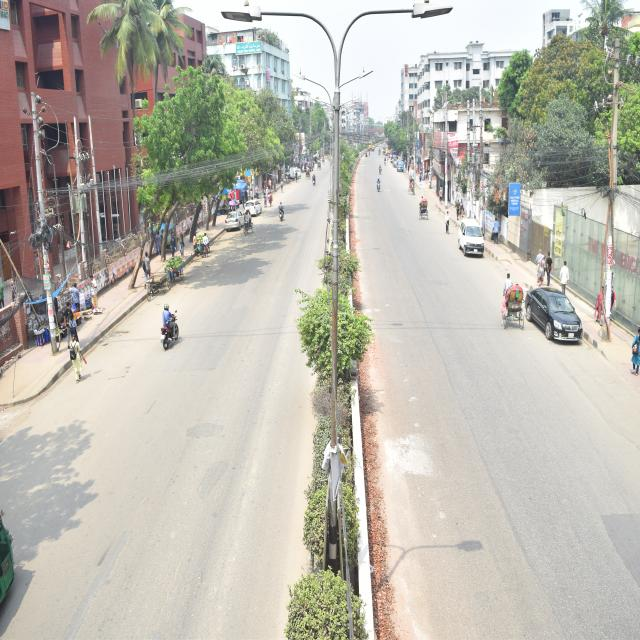car: (524, 225, 596, 384), (440, 194, 494, 274), (218, 201, 257, 244), (236, 186, 264, 227)
motorbike: (134, 302, 200, 392), (270, 196, 294, 242), (307, 165, 324, 198), (372, 155, 384, 182), (374, 178, 388, 201)
